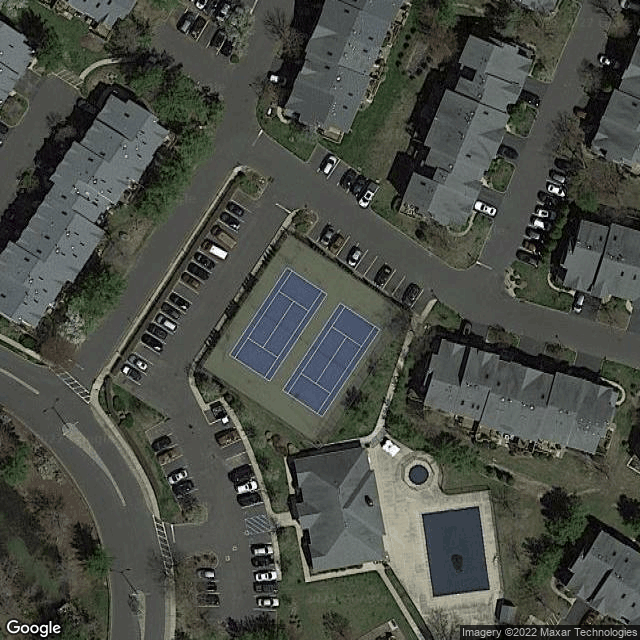Court: (227, 265, 329, 383), (279, 302, 380, 417)
